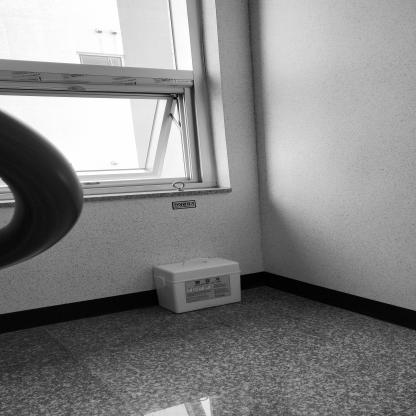DDL: (154, 257, 242, 313)
